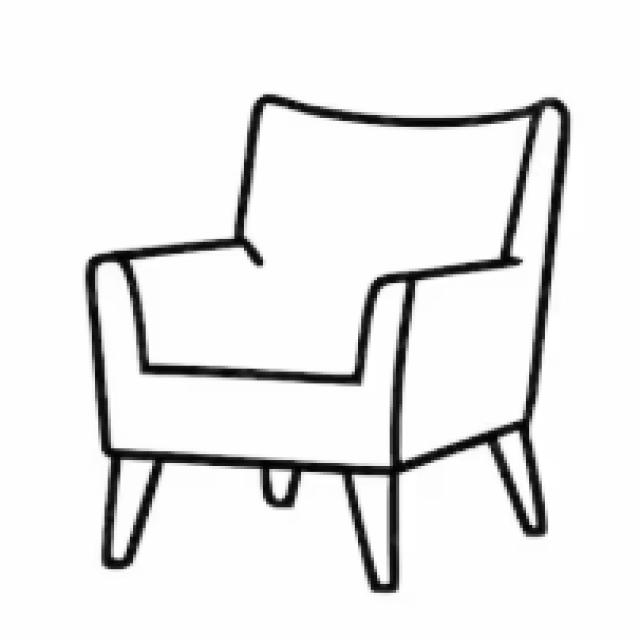Armrest: (356, 253, 553, 472), (84, 240, 267, 455)
Backrest: (236, 95, 569, 327)
Leg_Structure: (105, 424, 552, 595)
Seat: (140, 323, 367, 467)
